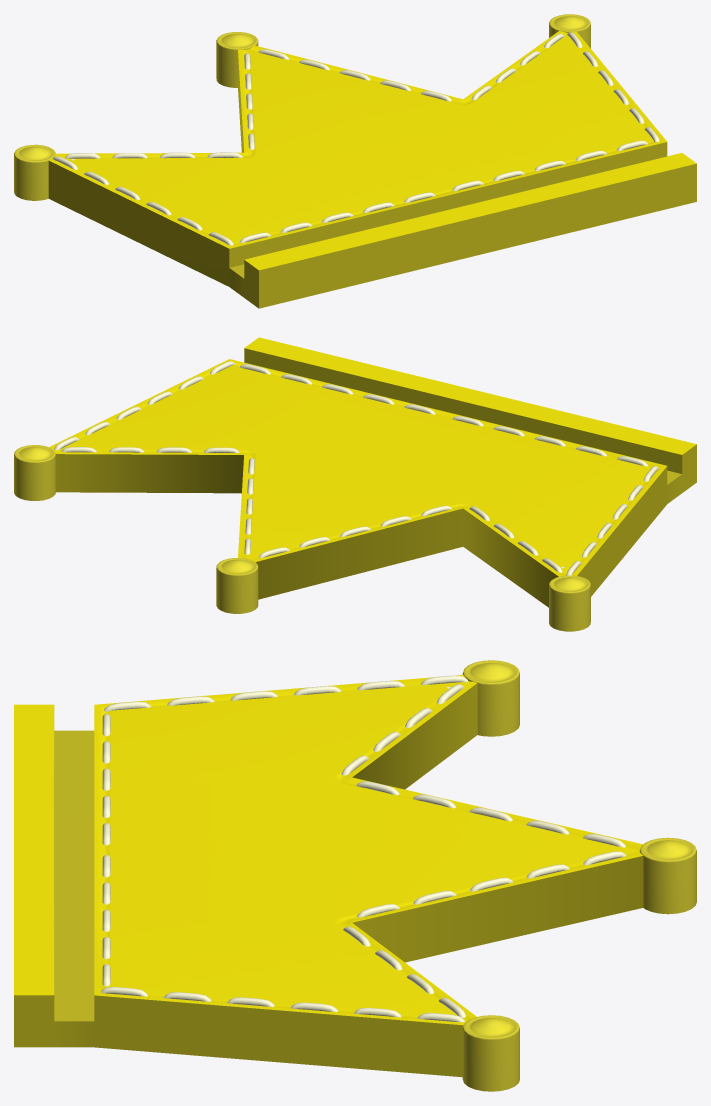
Rendered from PatchCrownModel.gltf.
3 views of the same model, one above another, from view 1: azimuth 30°, elevation 25°; view 2: azimuth 150°, elevation 25°; view 3: azimuth 270°, elevation 25° (orthographic). The views are drawn at different scales.
Visible parts, largest first — view 1: PatchCrownModel; view 2: PatchCrownModel; view 3: PatchCrownModel.
Boxes of the visible parts, x1,y1,x2,y2 form: PatchCrownModel: (14, 14, 696, 308); PatchCrownModel: (14, 337, 696, 631); PatchCrownModel: (14, 660, 696, 1091).
Bounding box in the file's own units: 1.56 × 0.1133 × 1.19.
